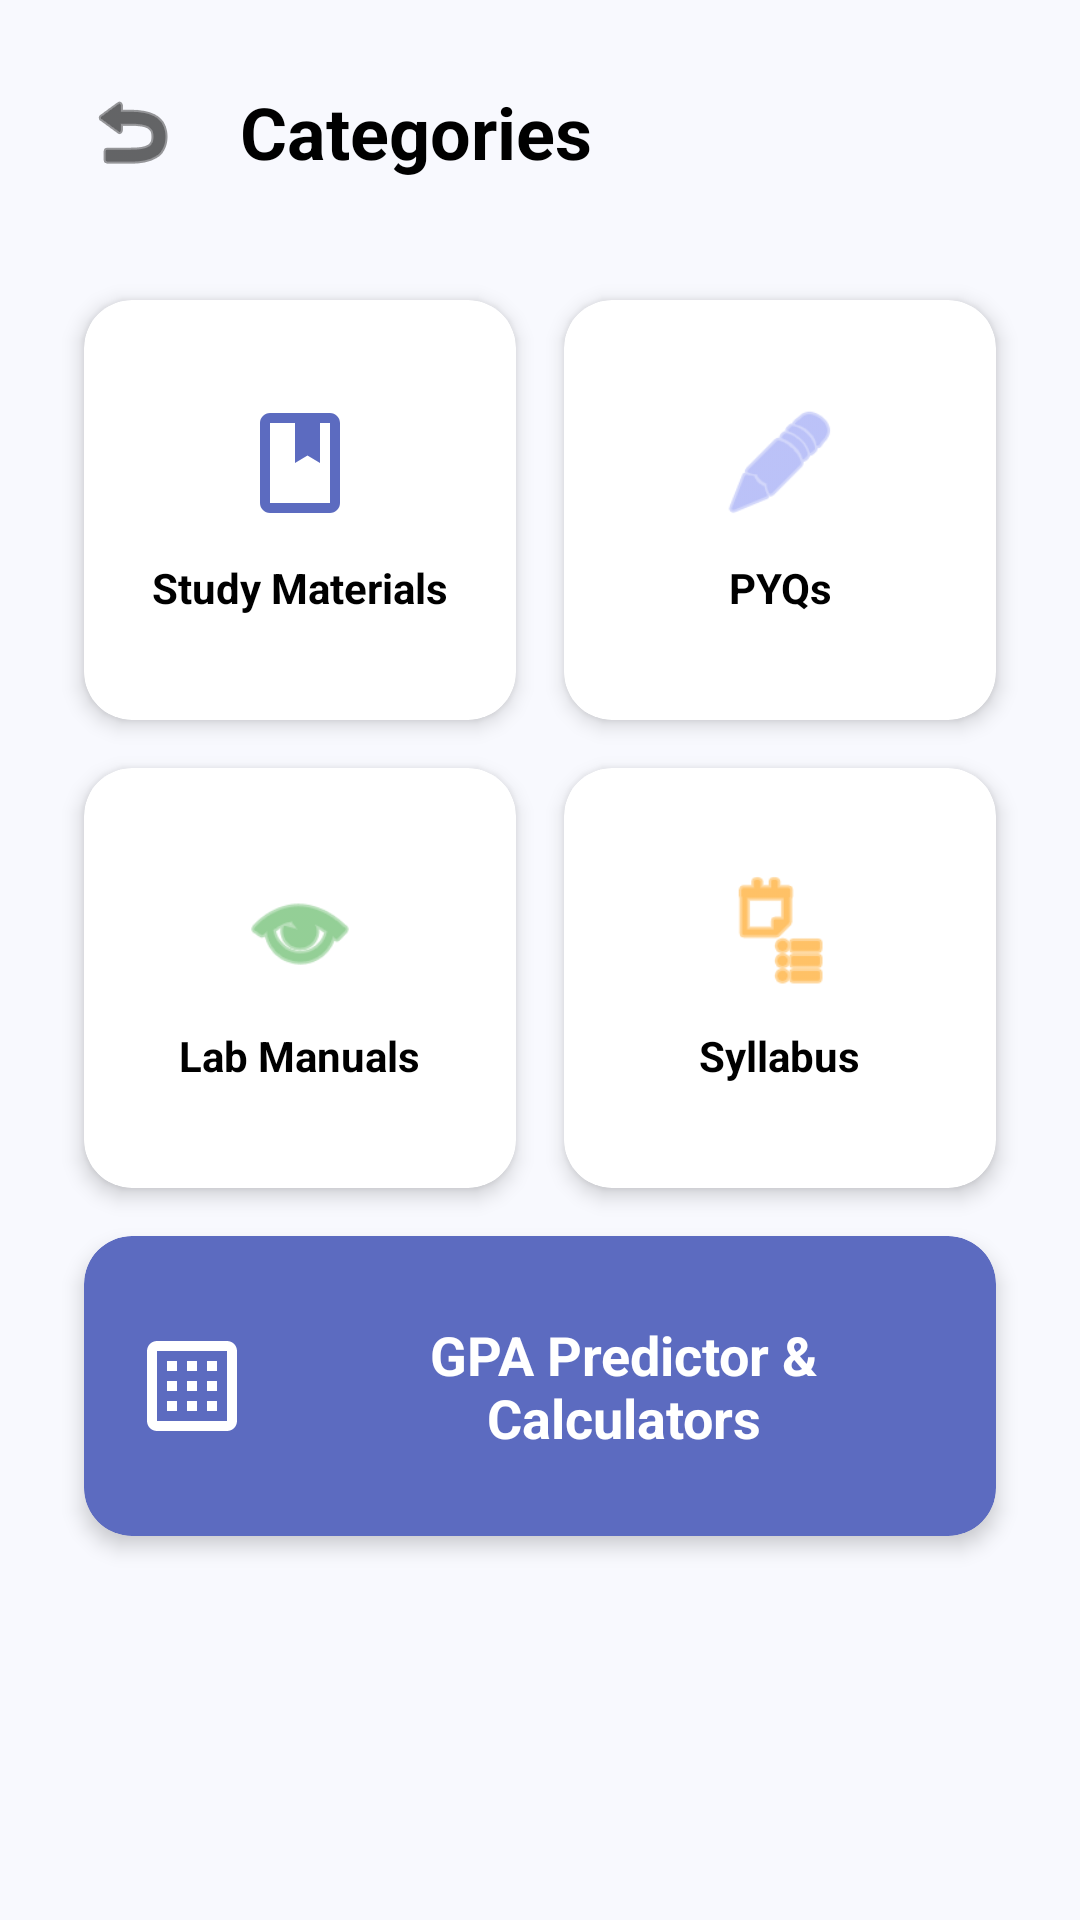

Point at icon controls on the screen. Image size 1080x1920, points as (x=x, y=y).
agenda: (x=780, y=930)
Back: (x=133, y=132)
book: (x=300, y=463)
edit: (x=779, y=462)
view: (x=300, y=934)
